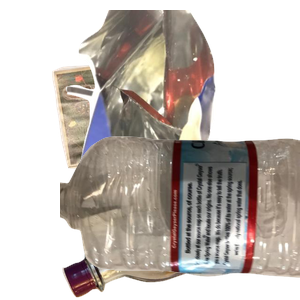glass: (60, 180, 300, 300)
paper: (49, 51, 235, 212)
plastic: (60, 134, 300, 300)
trash: (63, 10, 300, 190)
